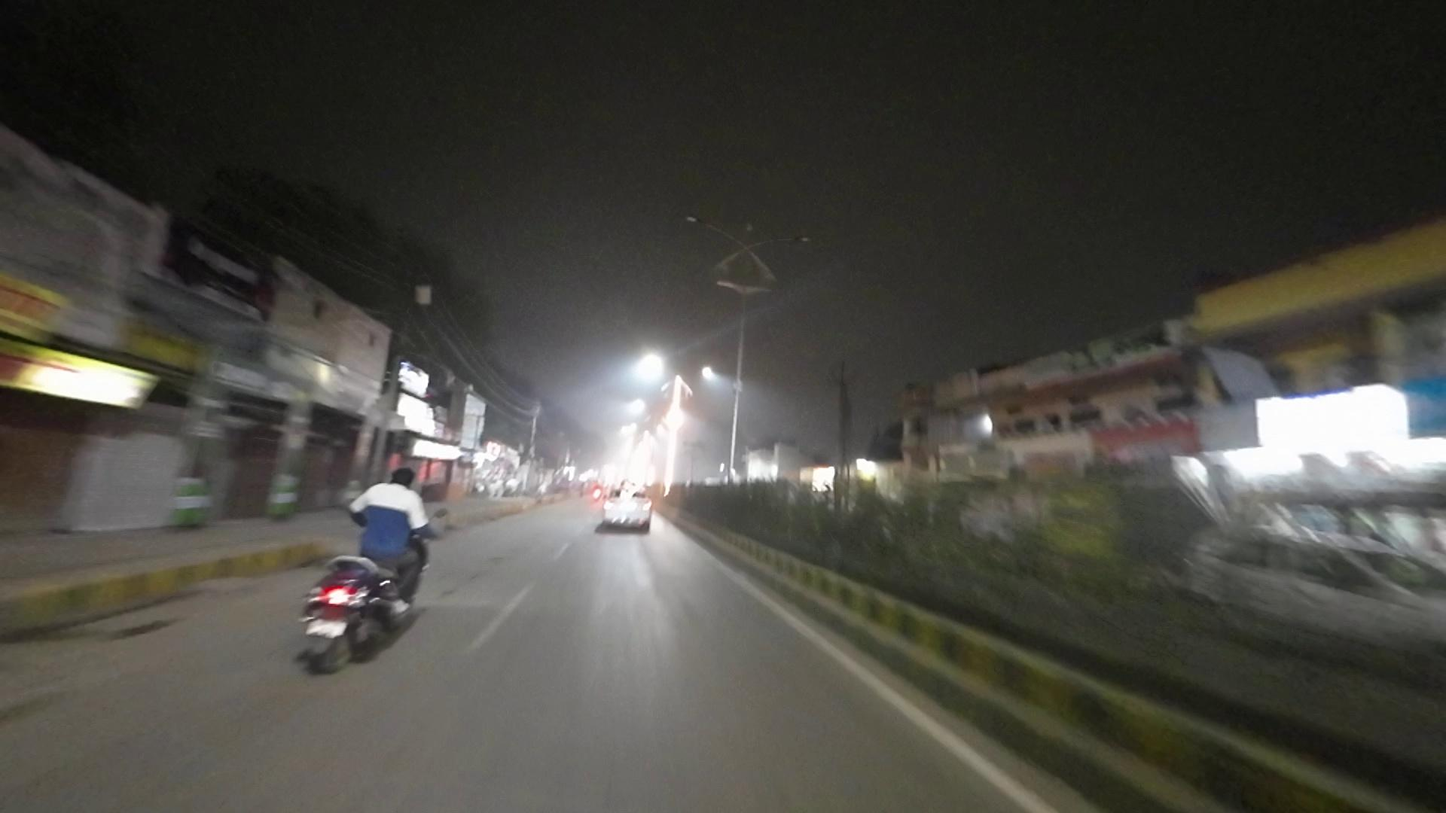streetlight: (682, 209, 740, 246), (756, 233, 818, 251)
